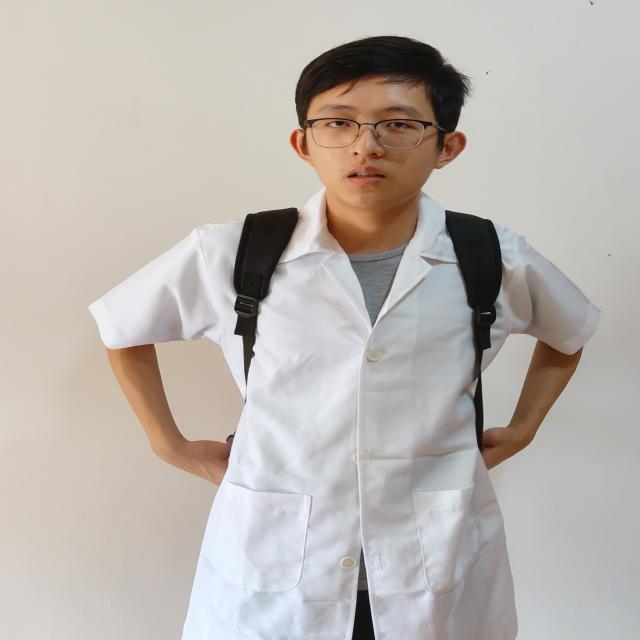person_with_labcoat: (90, 37, 599, 640)
